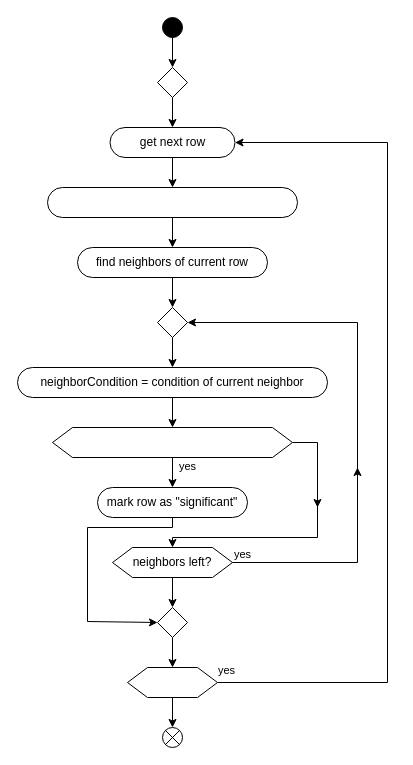
Some shapes in this 413 by 765 pixel diagram are drawn without their labels. Each missing label, with the box of its shape:
rowCondition != neighborCondition: (52, 426, 292, 458)
rowCondition = condition of current row: (46, 186, 298, 218)
rows left?: (126, 666, 218, 698)
